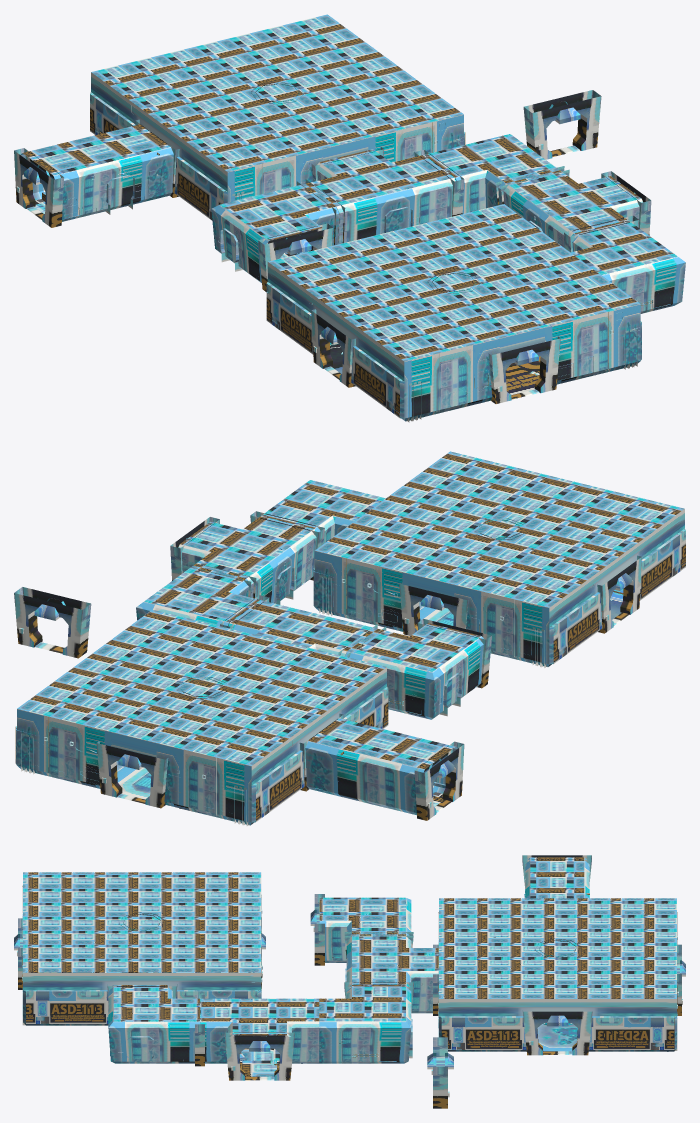
The model's file is Combined_Mesh_root_scene__15_7f71ba4d__ZombiesII_laboratory_10_a_1fa57b93_c1f257.obj.
3 views of the same model, one above another, from view 1: azimuth 30°, elevation 25°; view 2: azimuth 150°, elevation 25°; view 3: azimuth 270°, elevation 25° (orthographic). The views are drawn at different scales.
Size of the model in its own units: 84.62 by 10.34 by 113.
591 materials, 591 textured.
